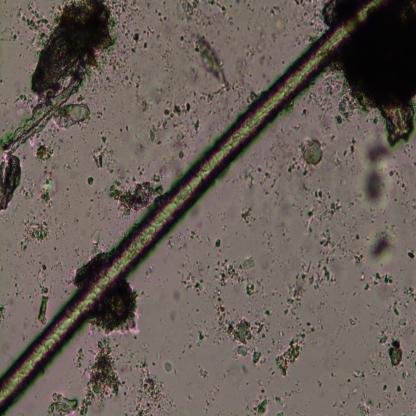Background material: (326, 0, 416, 146), (30, 1, 112, 93), (299, 174, 369, 270), (235, 128, 300, 192), (211, 300, 266, 368), (115, 0, 154, 91), (284, 260, 334, 316), (134, 356, 178, 414), (0, 0, 52, 48), (110, 173, 164, 219), (19, 164, 61, 222), (86, 336, 122, 402), (96, 284, 141, 334), (361, 268, 403, 318), (228, 38, 261, 99), (86, 132, 122, 182), (144, 102, 191, 140), (367, 138, 391, 210), (214, 256, 257, 296), (250, 4, 286, 49), (172, 257, 209, 300), (383, 165, 416, 212), (299, 81, 333, 121), (0, 155, 23, 213), (274, 336, 306, 376), (49, 390, 92, 416), (18, 218, 50, 252), (205, 0, 237, 30), (274, 378, 307, 407), (244, 385, 273, 416), (288, 309, 318, 338), (368, 232, 393, 266), (176, 0, 209, 25), (332, 96, 358, 127), (201, 379, 220, 416), (370, 335, 386, 378), (387, 335, 406, 370), (36, 262, 58, 292), (149, 2, 171, 30), (177, 228, 205, 249), (340, 132, 356, 164), (237, 203, 260, 225), (72, 343, 86, 377), (268, 226, 280, 264), (381, 378, 393, 416), (86, 229, 104, 253), (357, 396, 377, 416), (392, 383, 413, 402), (403, 280, 416, 310), (194, 327, 209, 352), (136, 85, 150, 110), (0, 296, 11, 324), (280, 212, 291, 240), (39, 294, 48, 328), (348, 364, 365, 382), (398, 142, 414, 161), (333, 397, 347, 416), (186, 329, 195, 354), (94, 104, 108, 120), (192, 118, 204, 136), (197, 365, 209, 381), (210, 235, 222, 251), (176, 148, 190, 161), (402, 246, 415, 260), (400, 373, 416, 384), (347, 314, 358, 328), (314, 374, 323, 388), (84, 173, 94, 185), (259, 307, 273, 315), (118, 124, 130, 133), (350, 383, 359, 393), (276, 408, 284, 416), (178, 36, 186, 43), (329, 372, 336, 378)
Cellulose filter fibre: (0, 76, 83, 157)
Diatom: (196, 35, 230, 92), (300, 139, 325, 168)
Hair: (0, 0, 384, 410)
